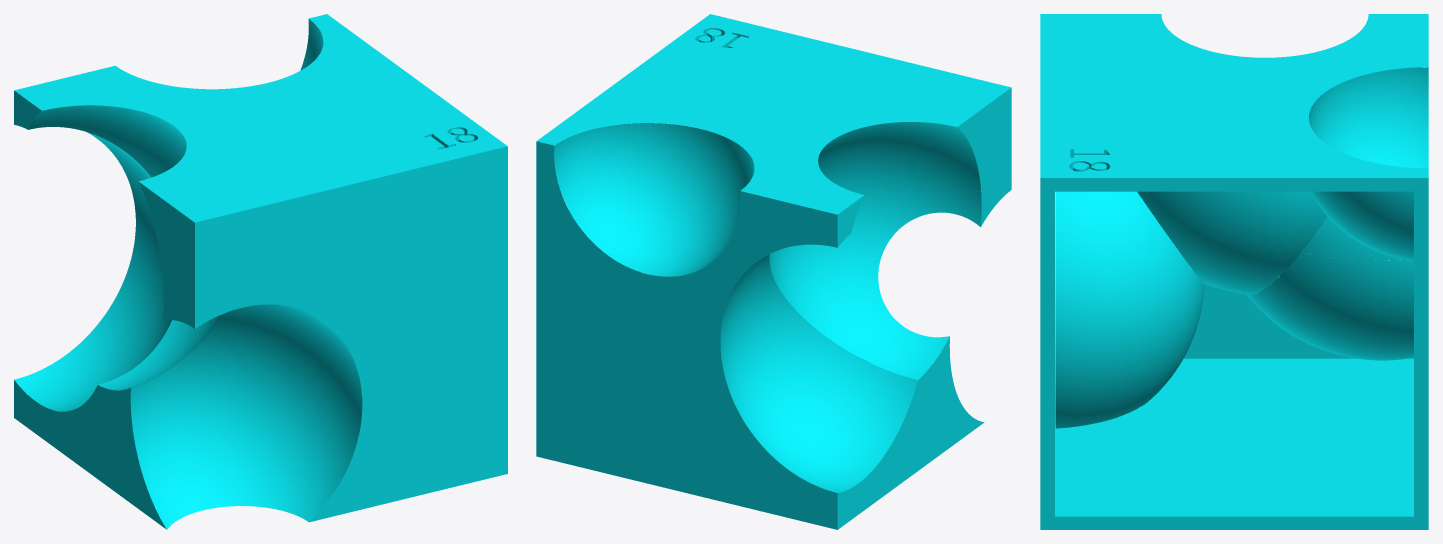
The picture shows the model from 3 angles, left to right: view 1: azimuth 30°, elevation 25°; view 2: azimuth 150°, elevation 25°; view 3: azimuth 270°, elevation 25°; orthographic projection. The views are drawn at different scales.
Parts seen in each view (by area): view 1: 70_vars_w-txt; view 2: 70_vars_w-txt; view 3: 70_vars_w-txt.
Boxes of the visible parts, box(x1,y1,x2,y2) form: 70_vars_w-txt: box(14, 14, 507, 529); 70_vars_w-txt: box(536, 14, 1011, 529); 70_vars_w-txt: box(1040, 14, 1428, 529).
Bounding box in the file's own units: 0.042 × 0.042 × 0.042.
